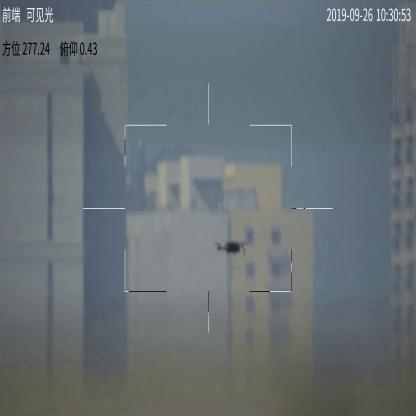uav: (211, 238, 251, 255)
